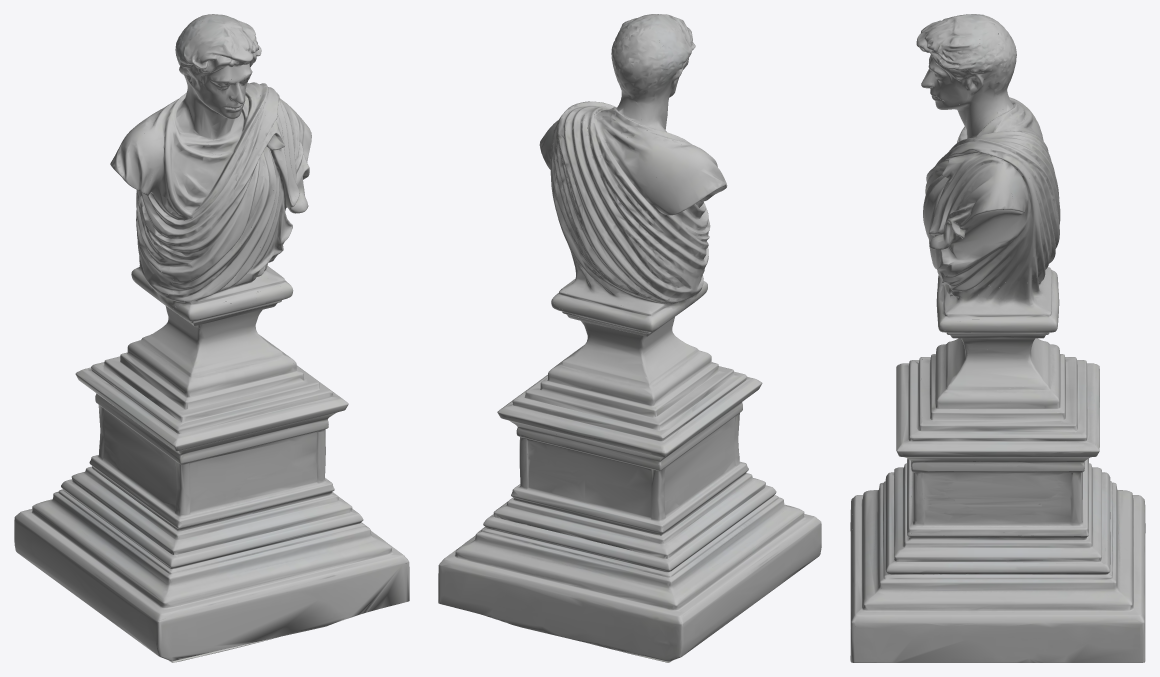
File: classical-bust.glb
The picture shows the model from 3 angles, left to right: view 1: azimuth 30°, elevation 25°; view 2: azimuth 150°, elevation 25°; view 3: azimuth 270°, elevation 25°; orthographic projection. The views are drawn at different scales.
Visible parts, largest first — view 1: Object_2; view 2: Object_2; view 3: Object_2.
Boxes of the visible parts, x1,y1,x2,y2 form: Object_2: [14, 14, 409, 662]; Object_2: [438, 14, 821, 662]; Object_2: [850, 14, 1145, 662].
Size of the model in its own units: 0.4733 by 1.05 by 0.4734.
1 material, 1 textured.
